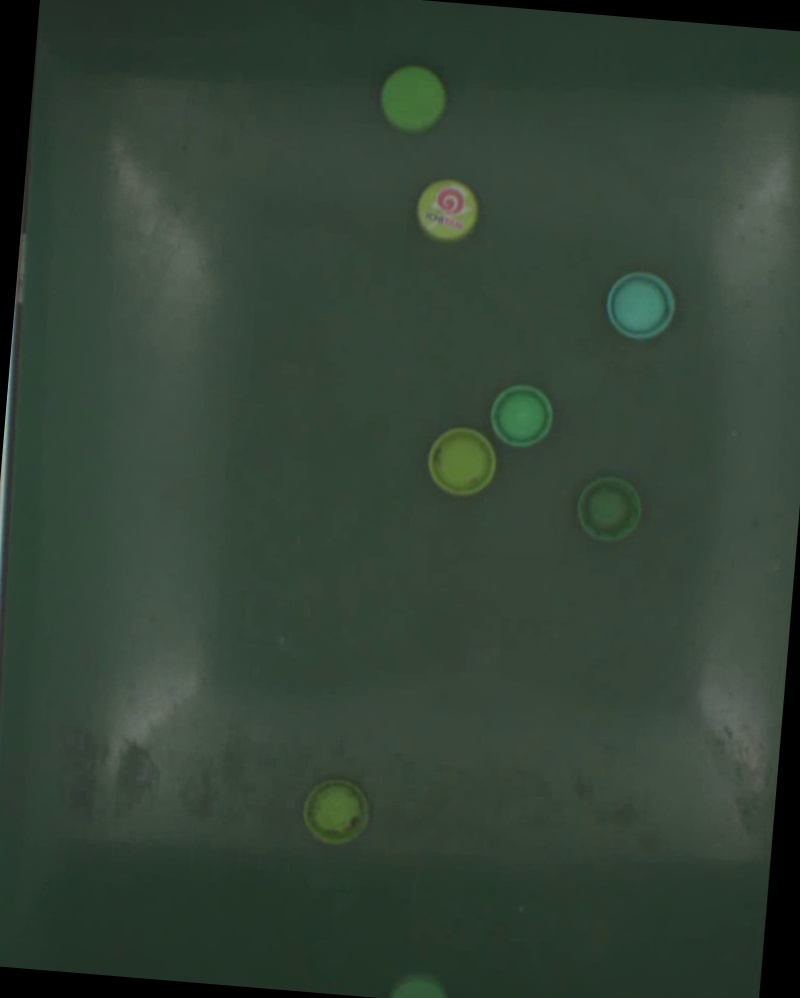Others: (424, 426, 500, 499), (604, 270, 679, 343), (572, 474, 645, 546), (377, 64, 450, 135), (300, 779, 372, 847), (487, 382, 557, 450), (413, 179, 482, 246)
